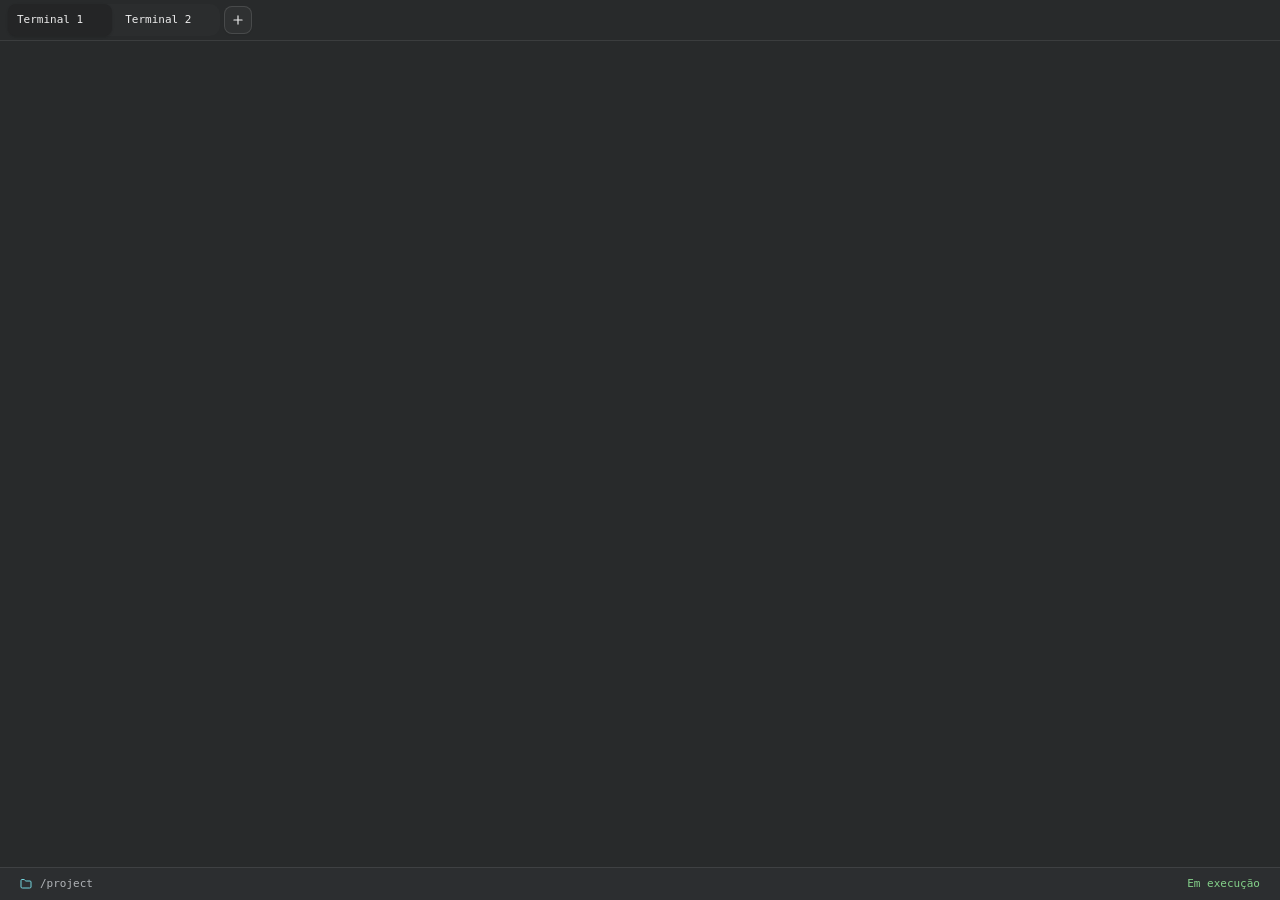
Test: Integrated terminals › shows one terminal tab strip and creates terminals after the last tab
Expected: the tab "Terminal 1" is shown, [8, 4, 112, 36]
Step 1. Click the tab "Terminal 2" → [168, 20], box [116, 4, 220, 36]
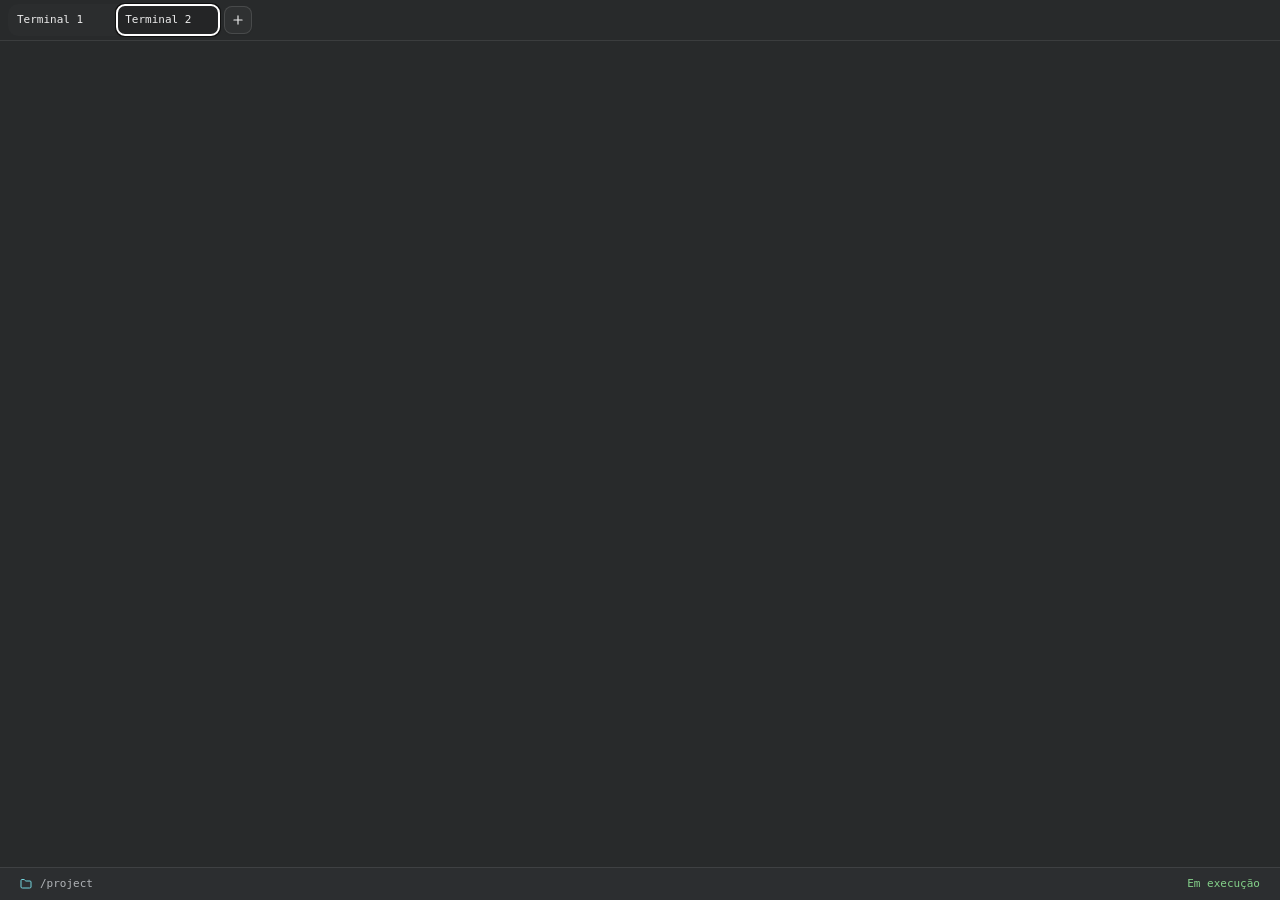
Step 2. Click the button named "Novo terminal" → [238, 20], box [224, 6, 252, 34]
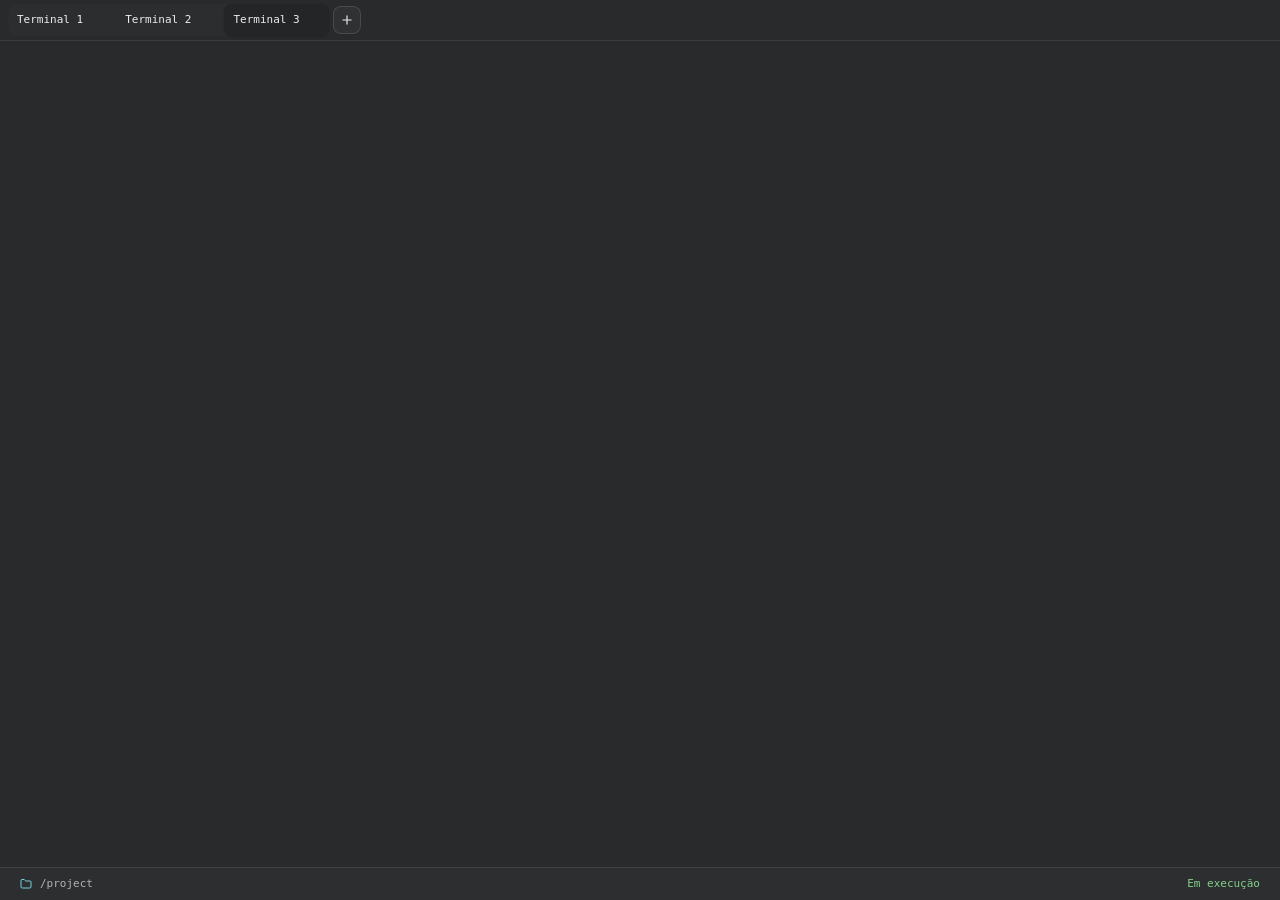
Now the tab "Terminal 3" is shown, box [224, 4, 329, 36]
